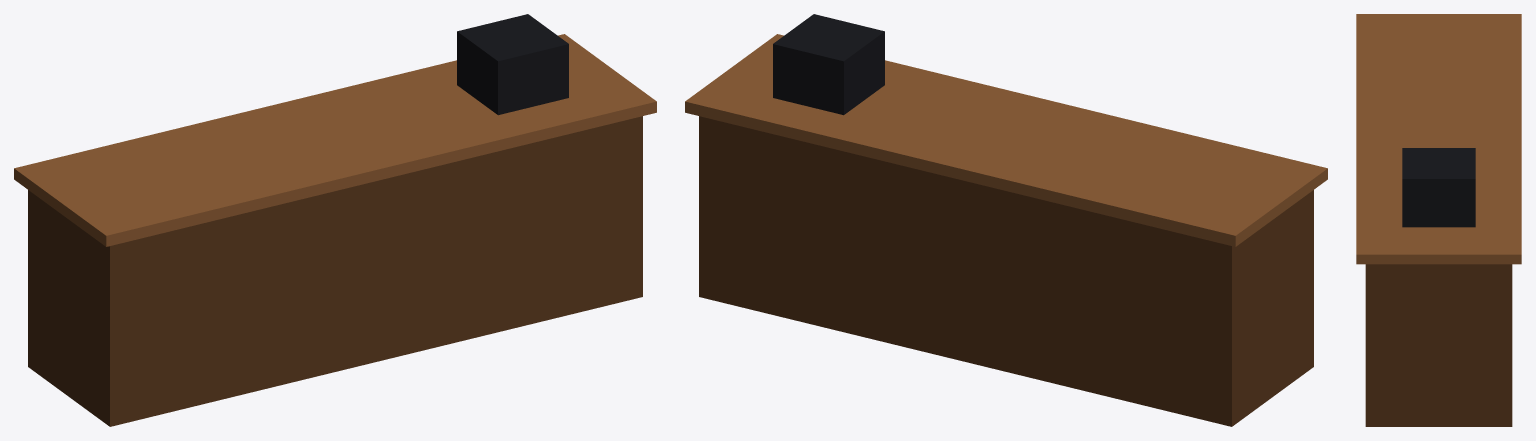
The model's file is int_counter.glb.
3 views of the same model, side by side, from view 1: azimuth 30°, elevation 25°; view 2: azimuth 150°, elevation 25°; view 3: azimuth 270°, elevation 25° (orthographic). The views are drawn at different scales.
Parts seen in each view (by area): view 1: int_counter__mesh; view 2: int_counter__mesh; view 3: int_counter__mesh.
Boxes of the visible parts, left/top/right/bottom form: int_counter__mesh: left=14, top=14, right=656, bottom=426; int_counter__mesh: left=685, top=14, right=1327, bottom=426; int_counter__mesh: left=1356, top=14, right=1521, bottom=426.
Size of the model in its own units: 3.1 by 1.35 by 0.9.
